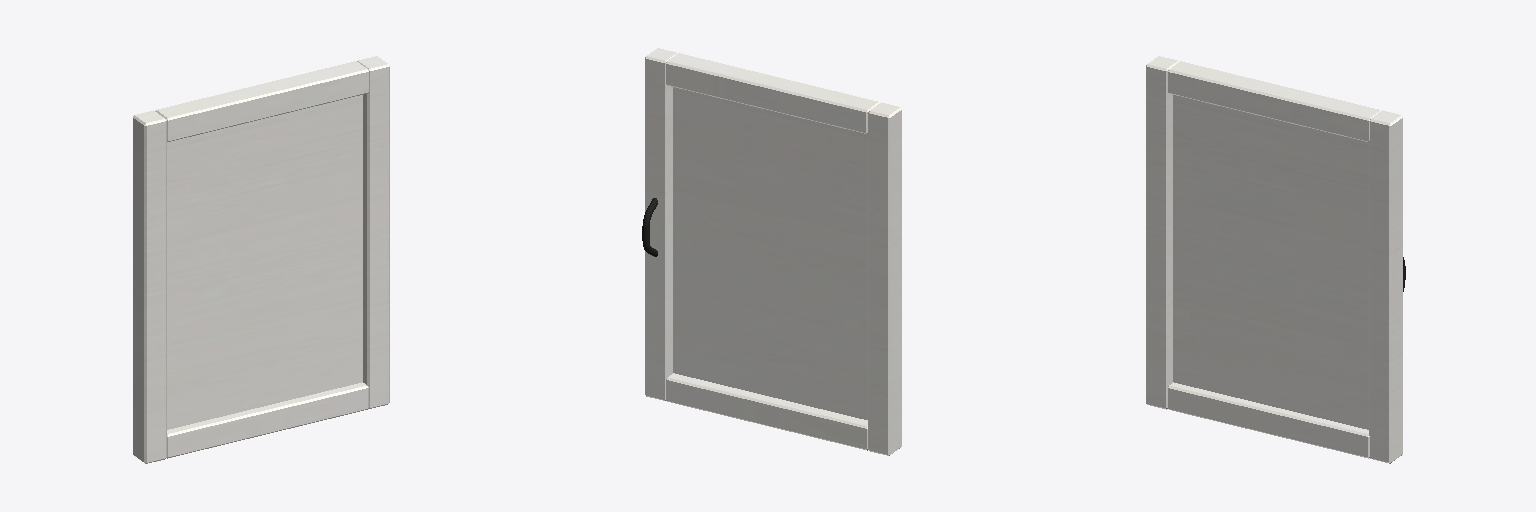
3 views of the same model, side by side, from view 1: azimuth 30°, elevation 25°; view 2: azimuth 150°, elevation 25°; view 3: azimuth 330°, elevation 25° (orthographic).
Visible parts, largest first — view 1: Object208, dfsfs; view 2: Object208, dfsfs; view 3: Object208, dfsfs.
Part boxes in pixels (left/top/right/bottom): Object208: left=167, top=95, right=362, bottom=429; dfsfs: left=133, top=56, right=389, bottom=463; Object208: left=673, top=87, right=867, bottom=419; dfsfs: left=645, top=48, right=901, bottom=455; Object208: left=1173, top=95, right=1368, bottom=429; dfsfs: left=1146, top=56, right=1402, bottom=463.
Bounding box in the file's own units: 428 × 566 × 72.94.
3 materials, 1 textured.